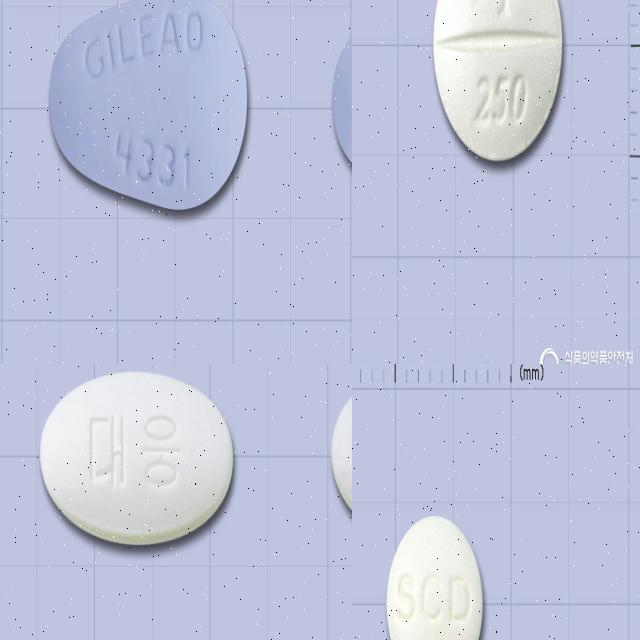Levostar -500mg: (386, 513, 485, 640)
Loxin: (432, 0, 563, 161)
Moxicle Tab-625mg: (41, 368, 232, 546)
Whanin Levofloxacin Tab: (48, 0, 249, 213)
